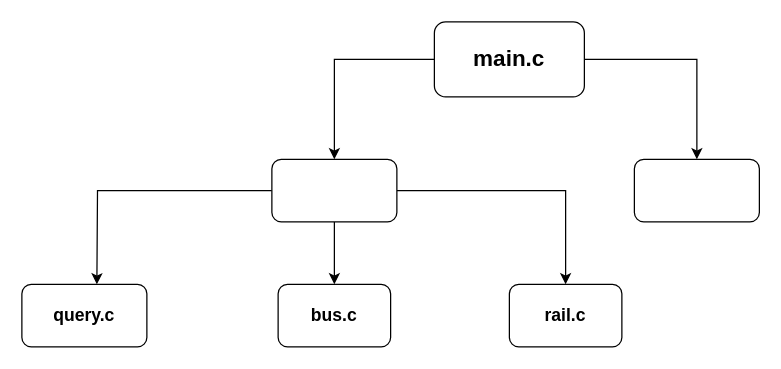
Some shapes in this 781 by 369 pixel diagram are drawn without their labels. The shapes that lost their labels are listed below. From the top down, each one's box as (x1, y1, x2, y2) in pixels, then its label:
(271, 158, 397, 222): controller.c
(633, 158, 759, 222): bus_io.c
